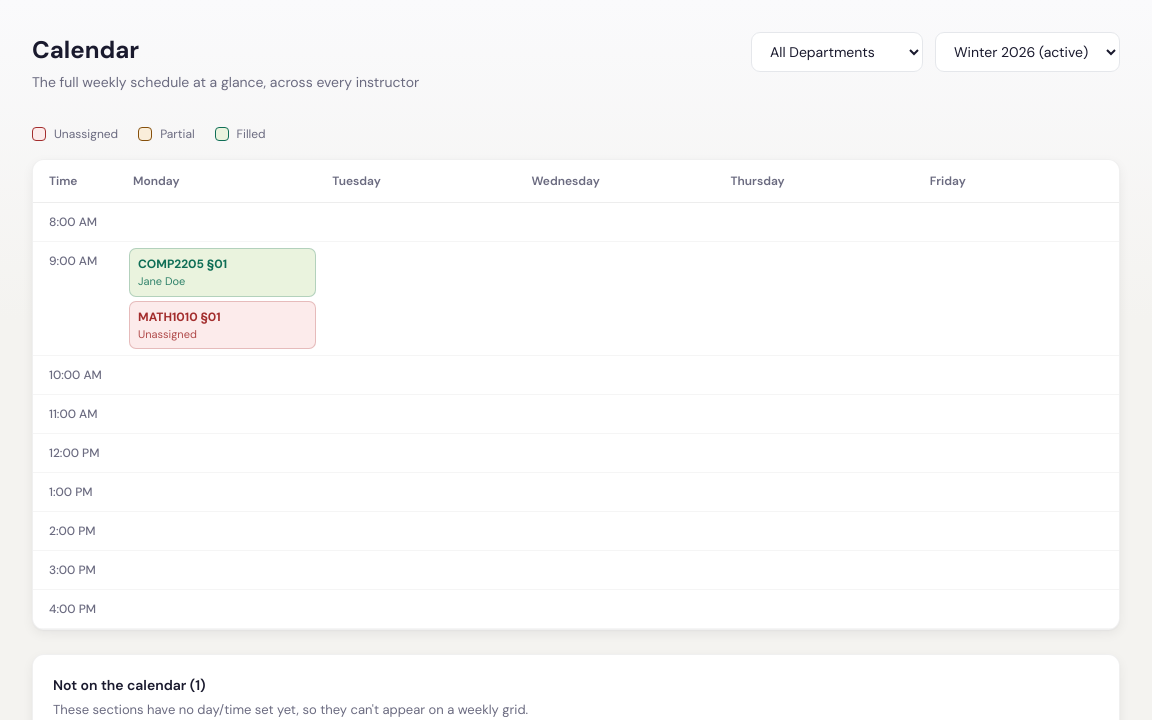
Test case: AdminCalendar › refetches the schedule for a different term when the dropdown changes
The width and height of the screenshot is (1152, 720).
Expected: the text "COMP2205 §01" is shown, [138,256,227,272]
Select "Fall 2025" in the dropdown named "Filter by term" at (1028, 52), box [935,32,1120,72]
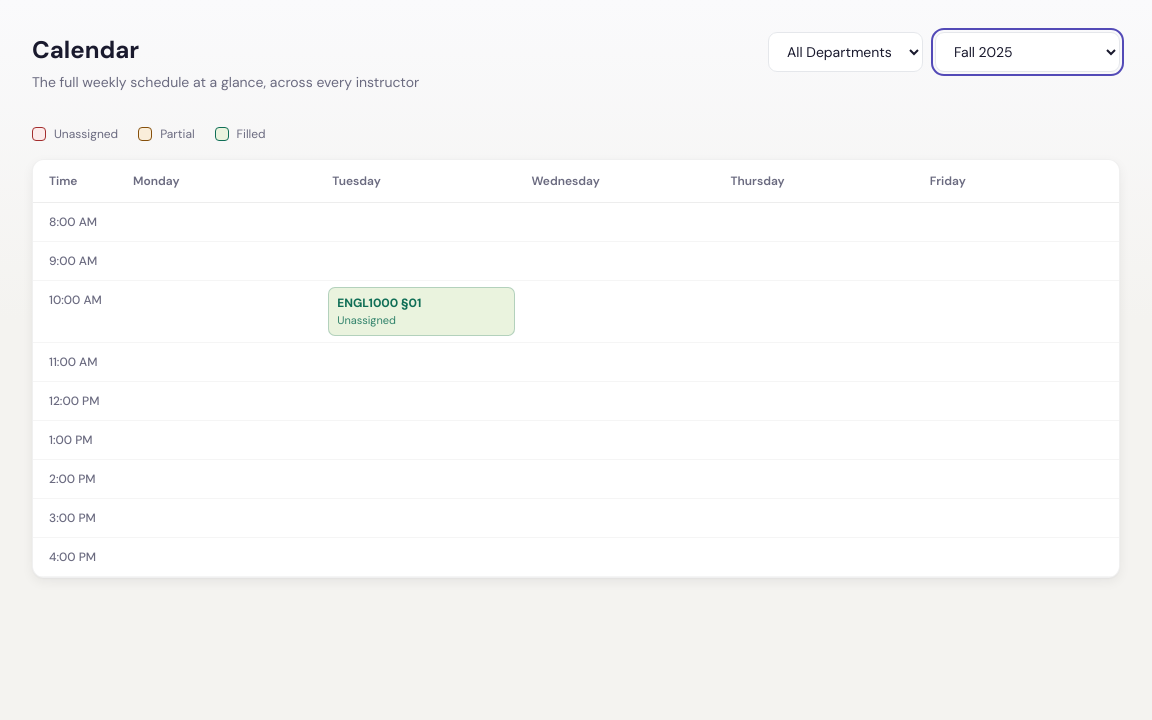
Now the text "ENGL1000 §01" is shown, box [337,295,421,311]
Now the link "COMP2205 §01" is gone
